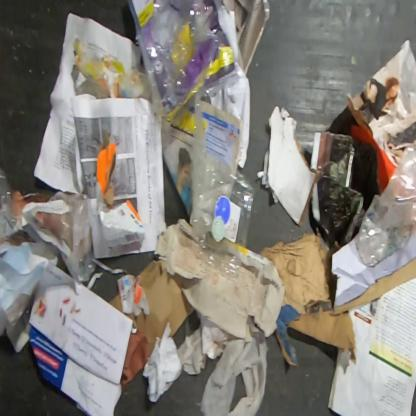cardboard: (152, 217, 286, 344), (28, 259, 133, 416), (287, 256, 415, 353), (121, 258, 194, 392), (254, 103, 324, 228), (331, 236, 415, 308), (96, 142, 146, 250), (349, 122, 396, 192), (274, 303, 304, 368), (108, 292, 122, 312)
rigid_plastic: (190, 97, 254, 278)
soft_plastic: (71, 0, 241, 136), (0, 164, 98, 283), (355, 134, 415, 269)
